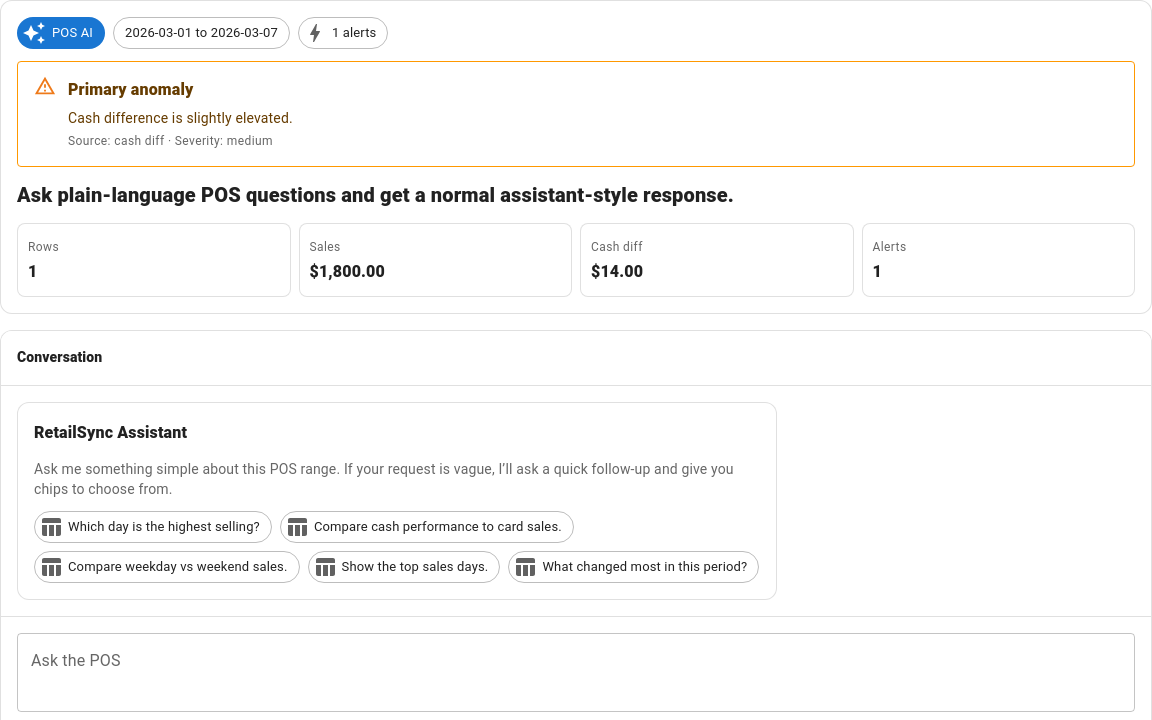
Test: POSAssistantPage › renders a conversational reply with structured widgets and follow-up chips
The image size is (1152, 720).
Type "Compare cash performance to card sales." into the text box at (576, 672), box [31,649,1121,695]
(page scrolled)
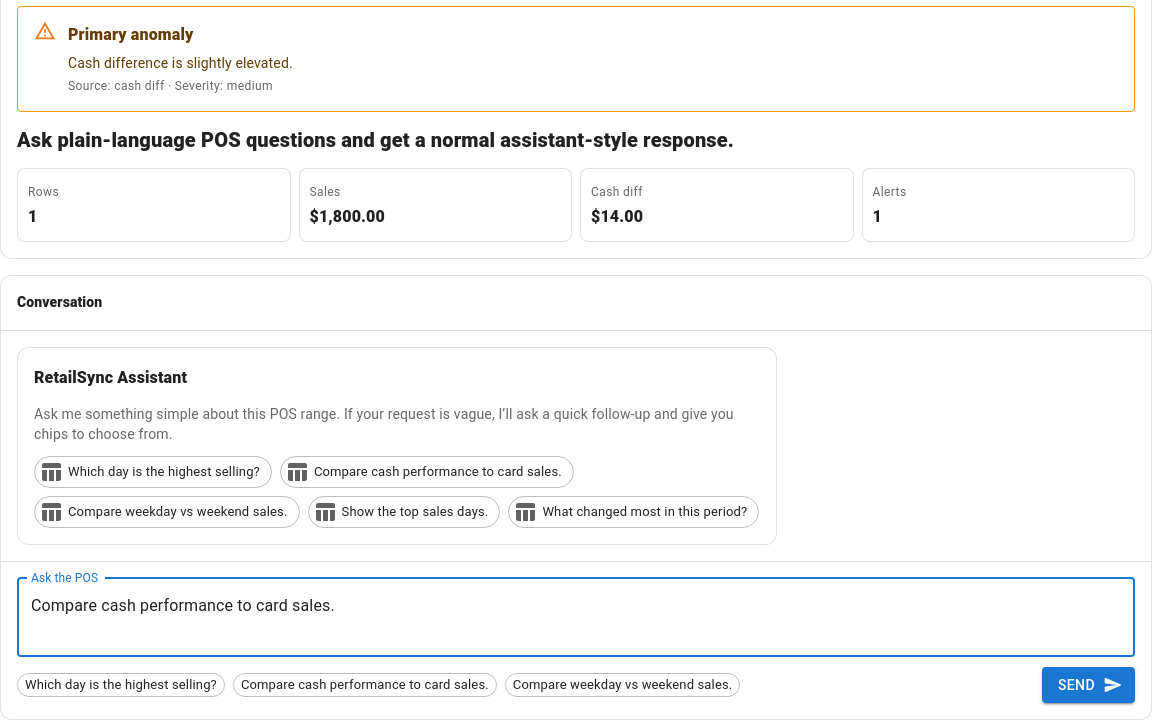
Click the button "Send" at (1088, 685), box [1042,667,1135,703]
(page scrolled)
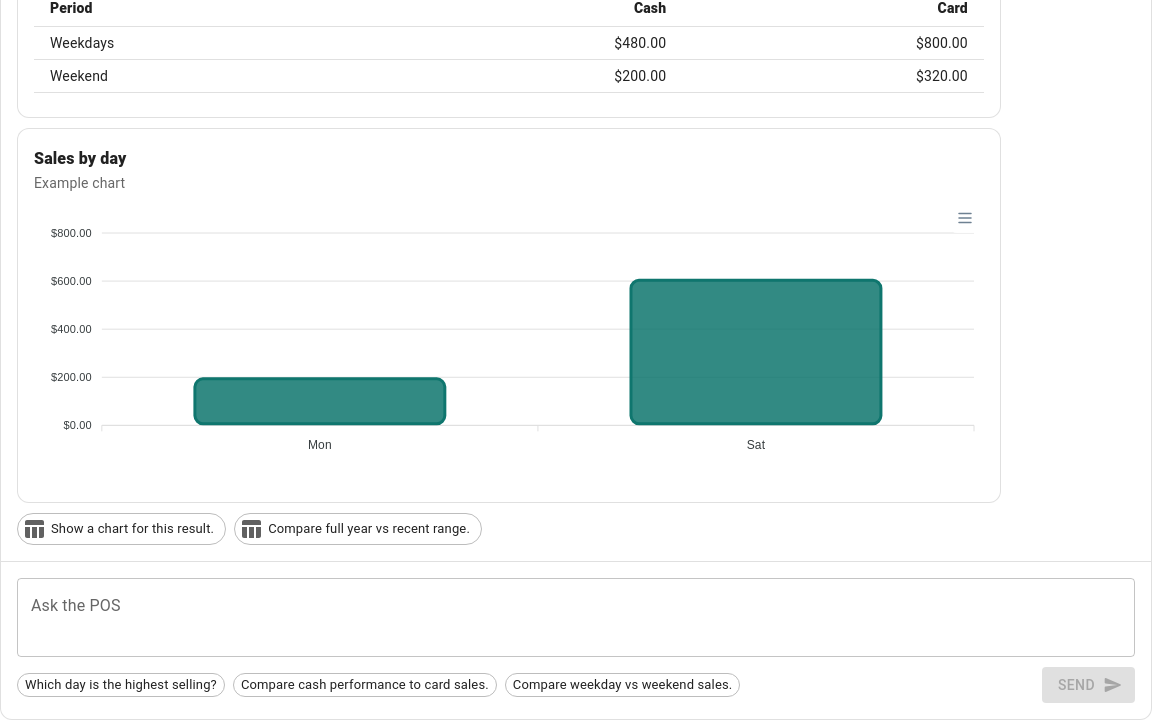
Expected: the heading "Sales by day" is shown, [34,149,126,168]
Expected: the button "Show a chart for this result." is shown, [17,513,226,545]
